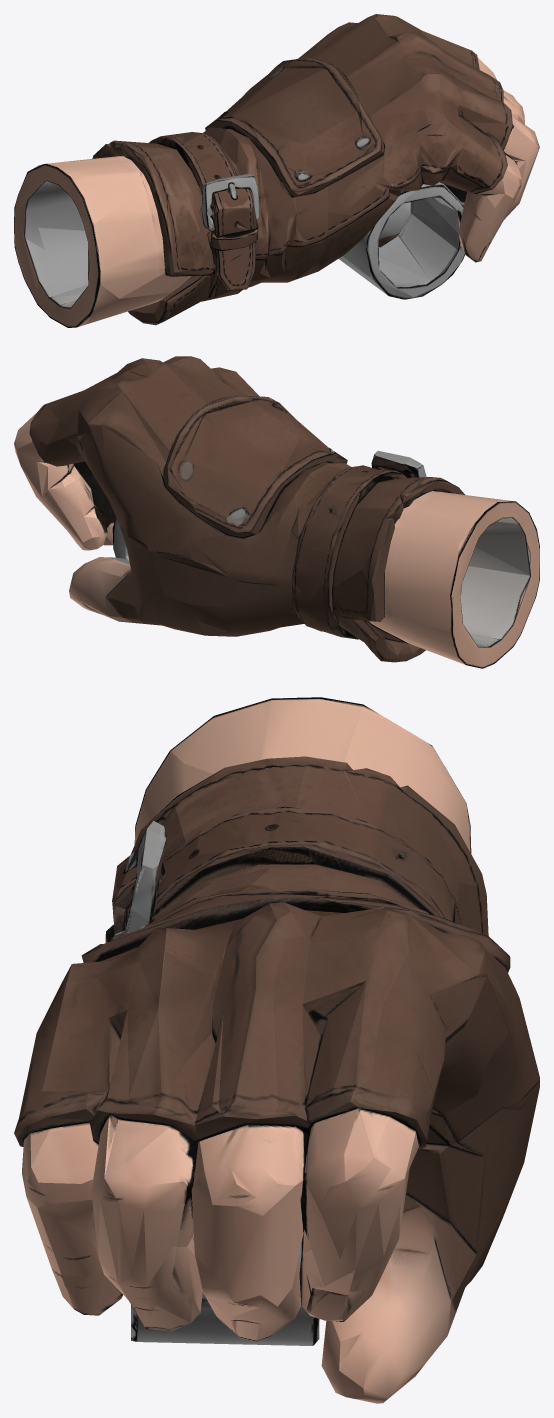
The picture shows the model from 3 angles, top to bottom: view 1: azimuth 30°, elevation 25°; view 2: azimuth 150°, elevation 25°; view 3: azimuth 270°, elevation 25°; orthographic projection. The views are drawn at different scales.
Parts seen in each view (by area): view 1: mesh_node; view 2: mesh_node; view 3: mesh_node.
Boxes of the visible parts, left/top/right/bottom form: mesh_node: left=14, top=14, right=539, bottom=327; mesh_node: left=14, top=356, right=539, bottom=668; mesh_node: left=14, top=697, right=539, bottom=1403.
Bounding box in the file's own units: 1.89 × 0.9284 × 0.9666.
1 material, 1 textured.
